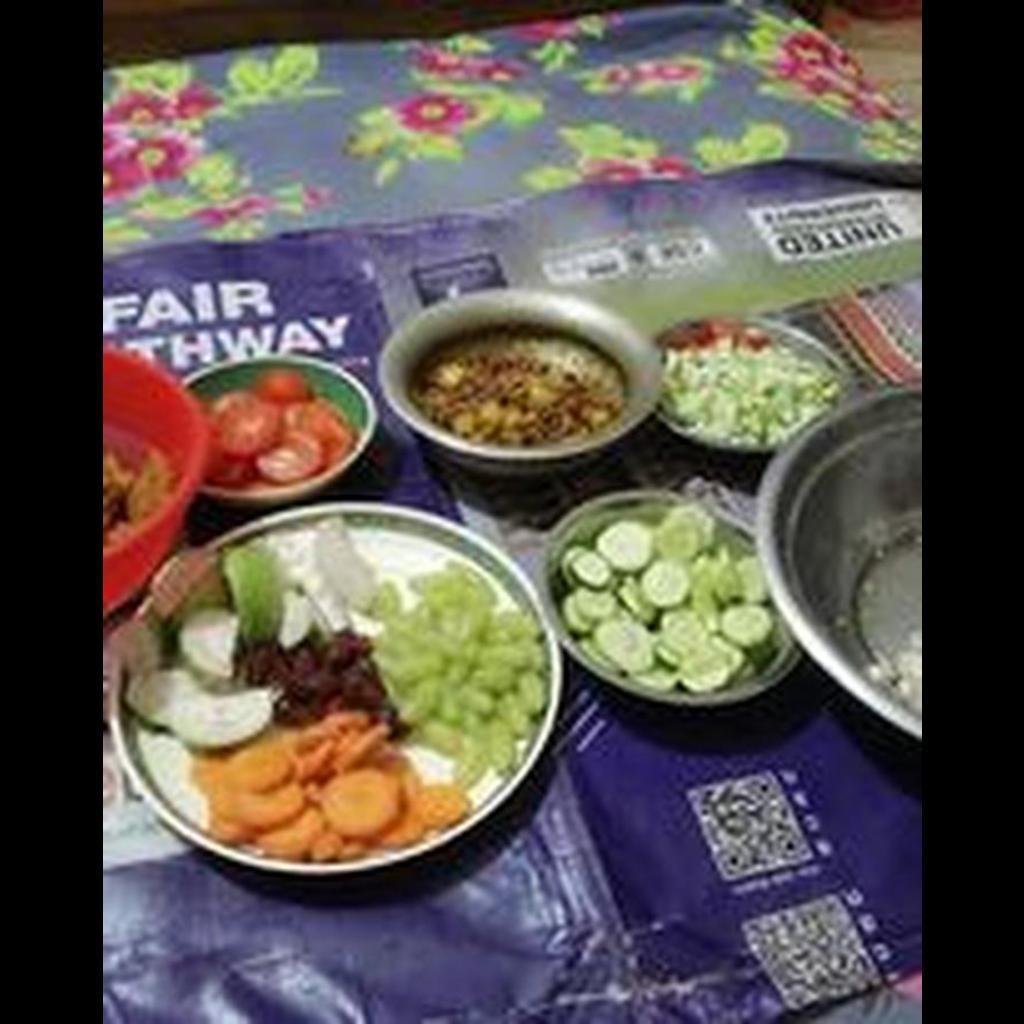carrot: (200, 719, 477, 858)
chola: (431, 353, 610, 445)
cucumber: (568, 508, 762, 690)
grapes: (401, 566, 545, 765)
guava: (108, 517, 363, 804)
tomato: (213, 375, 350, 476)
